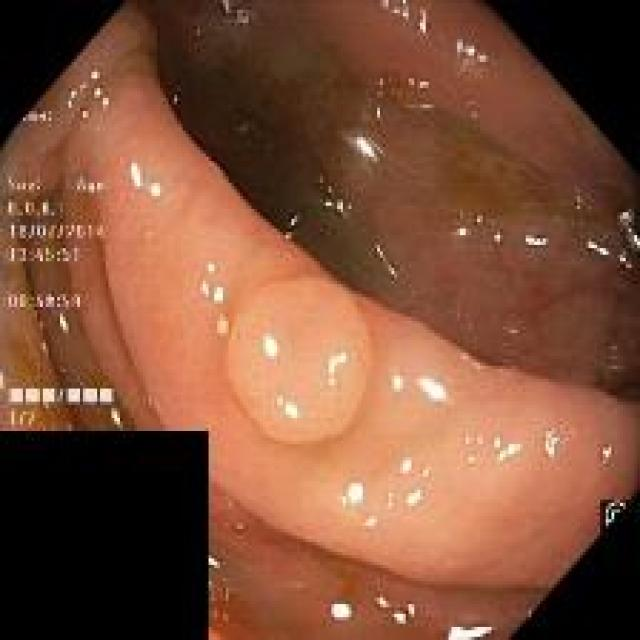Polyps: (226, 276, 372, 443)
